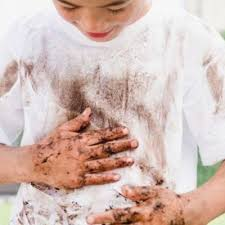earth: (102, 80, 137, 107), (59, 82, 87, 108), (205, 66, 222, 98), (57, 204, 79, 224), (149, 122, 161, 154), (3, 63, 17, 89), (95, 110, 119, 125), (19, 203, 33, 223), (154, 174, 164, 184)
